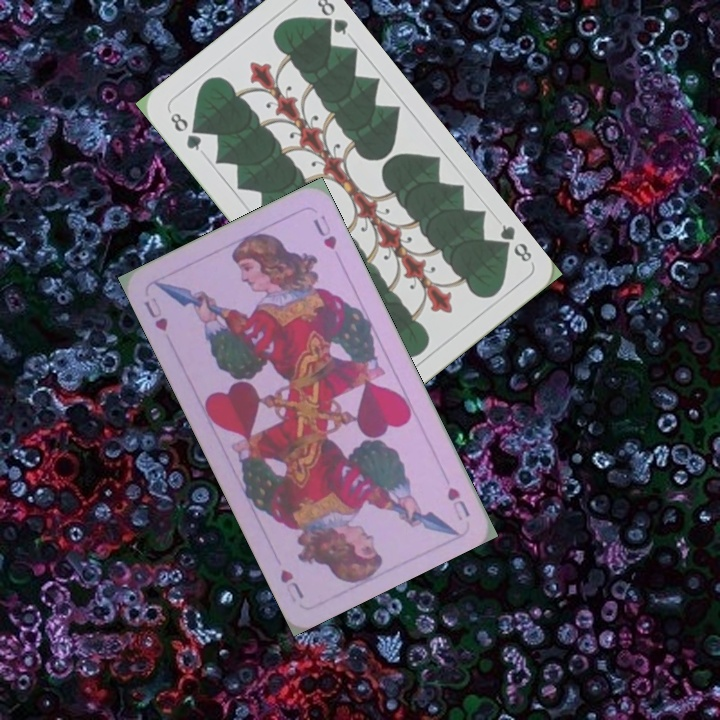G8: (491, 220, 535, 265), (166, 108, 204, 154)
HU: (140, 293, 171, 334), (443, 483, 473, 523)
